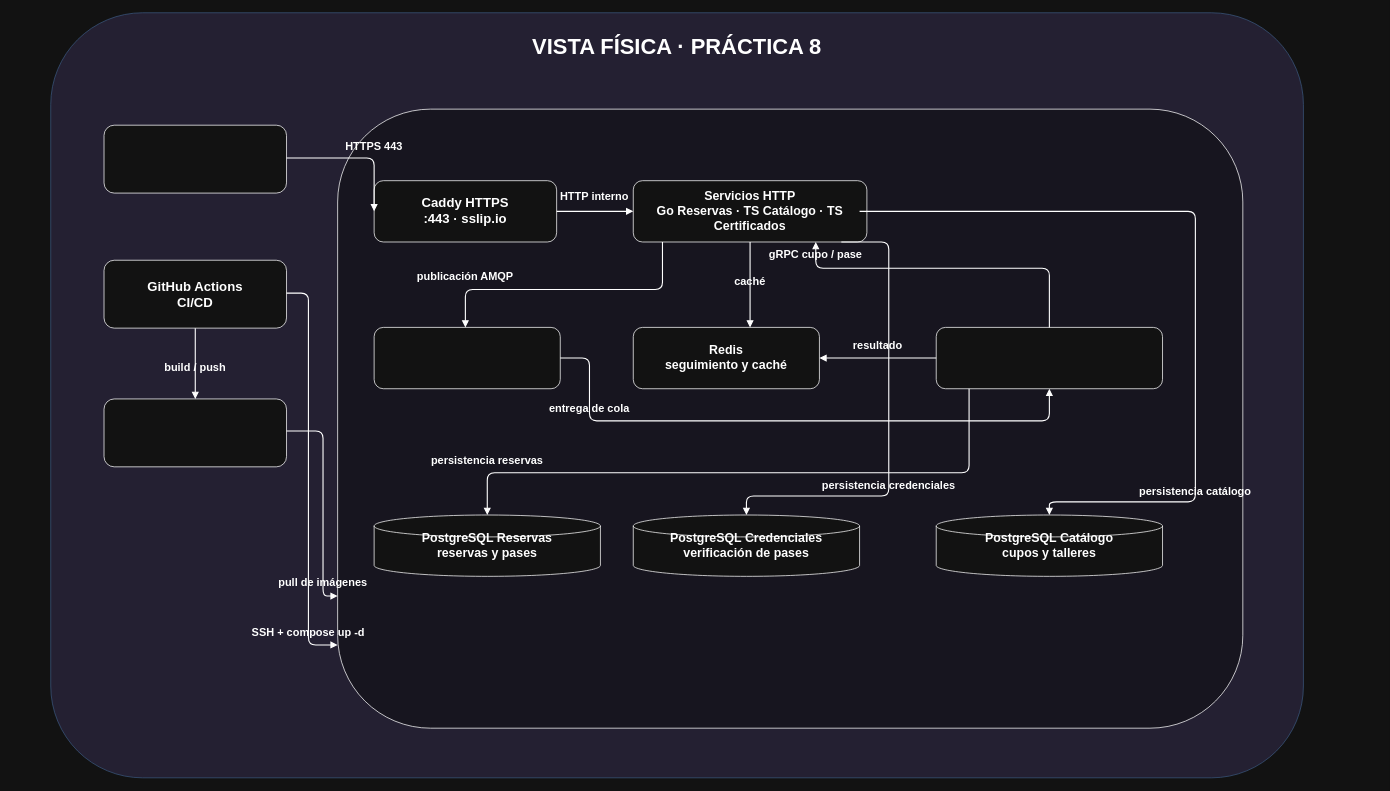
The diagram is 1390 pixels wide and 791 high, and some of its shapes have lost their labels. The centre of each missing label's shape, as x and y in pixels:
GHCR 4 imágenes versionadas: the point at 195,432
RabbitMQ AMQP · cola durable + DLQ: the point at 466,358
Vercel Frontend Next.js: the point at 195,158
Worker Python consumidor sin puerto público: the point at 1049,358
